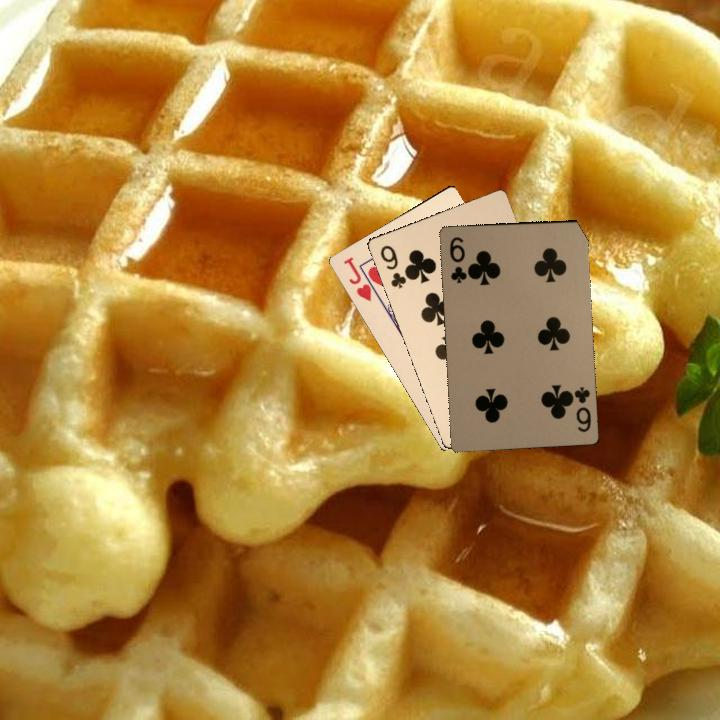6c: (565, 383, 593, 435), (446, 233, 469, 285)
9c: (376, 241, 411, 291)
Jh: (339, 253, 382, 304)
